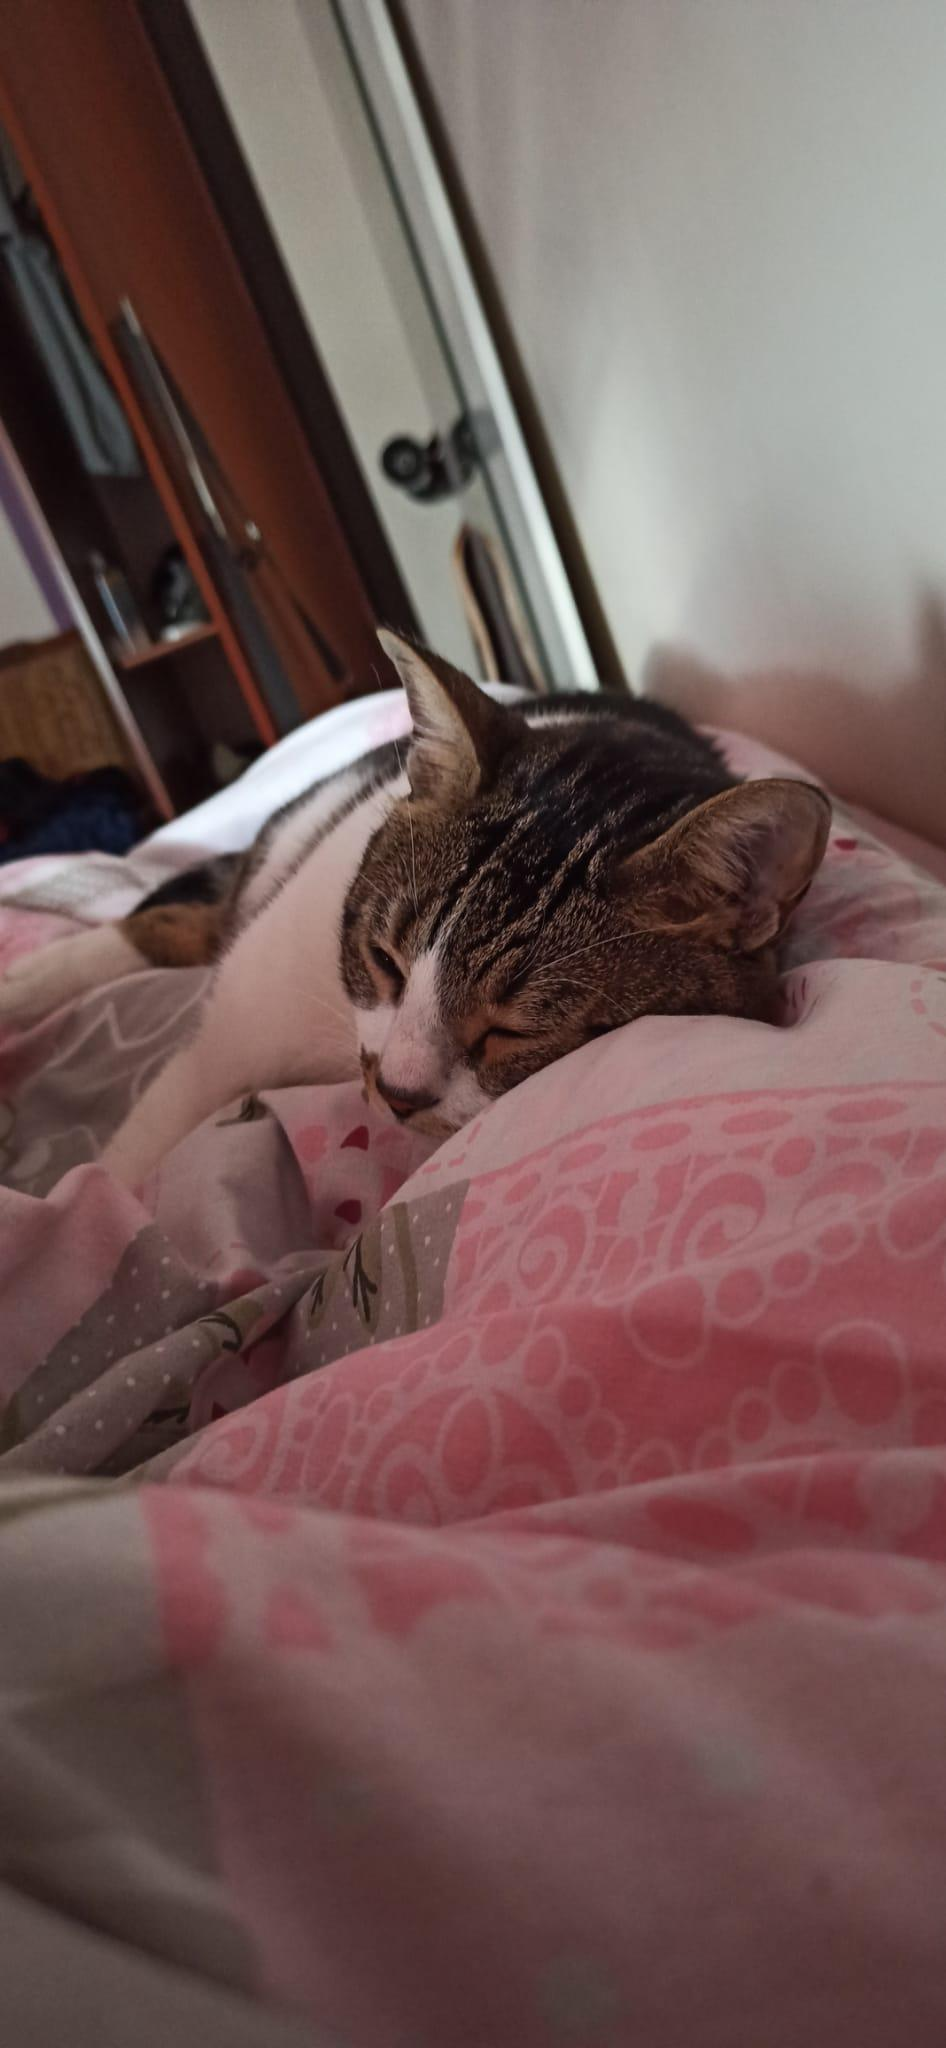kedo: (334, 620, 823, 1142)
